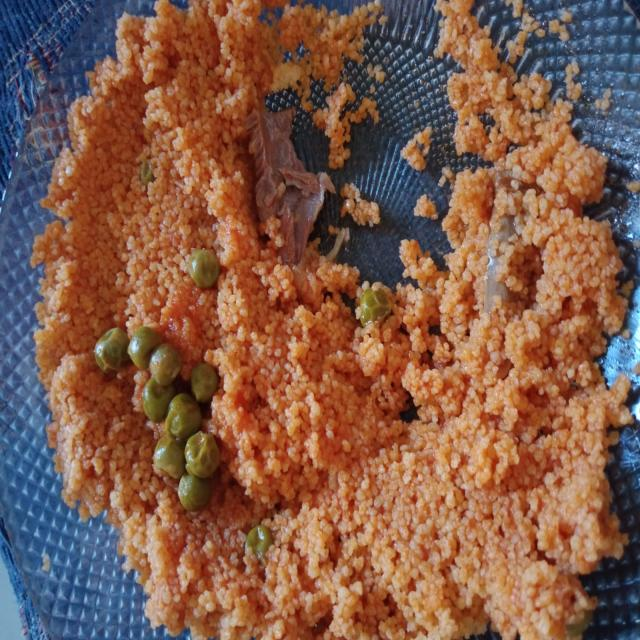Couscous: (22, 40, 626, 609)
